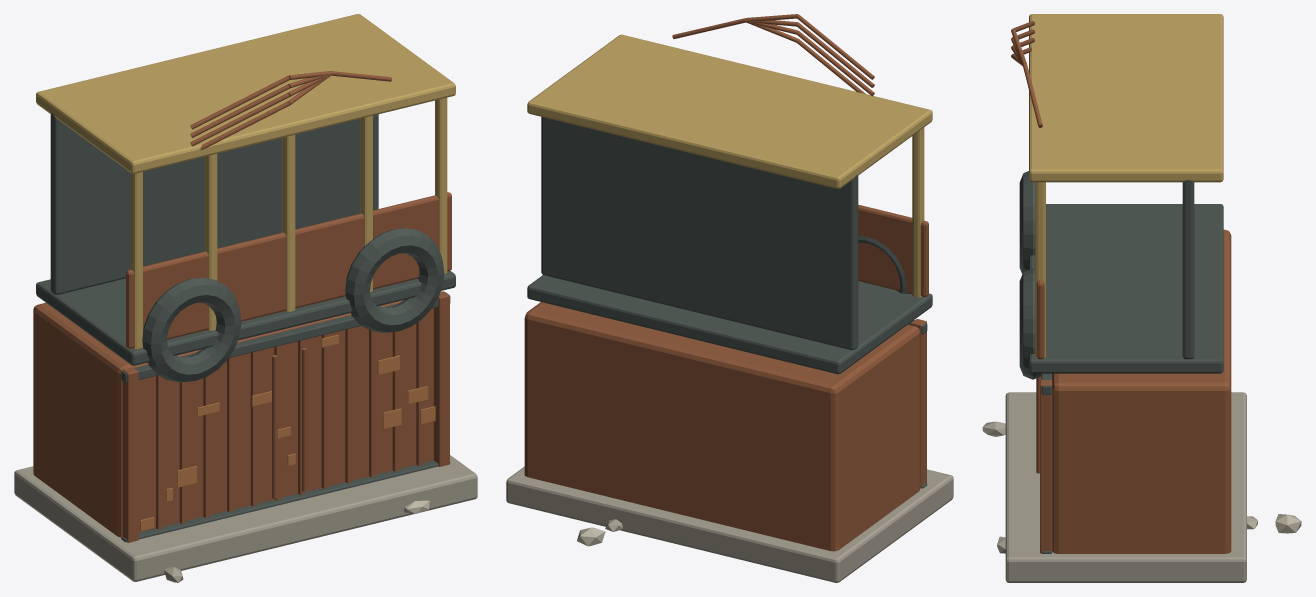
The model's file is Wall_Vehicle_Carcass.glb.
3 views of the same model, side by side, from view 1: azimuth 30°, elevation 25°; view 2: azimuth 150°, elevation 25°; view 3: azimuth 270°, elevation 25° (orthographic). The views are drawn at different scales.
Parts seen in each view (by area): view 1: Structure; view 2: Structure; view 3: Structure.
Part boxes in pixels (x1,y1,x2,y2): Structure: [14, 14, 477, 582]; Structure: [506, 14, 953, 582]; Structure: [982, 14, 1301, 582].
Bounding box in the file's own units: 5.1 × 6.66 × 4.1.
